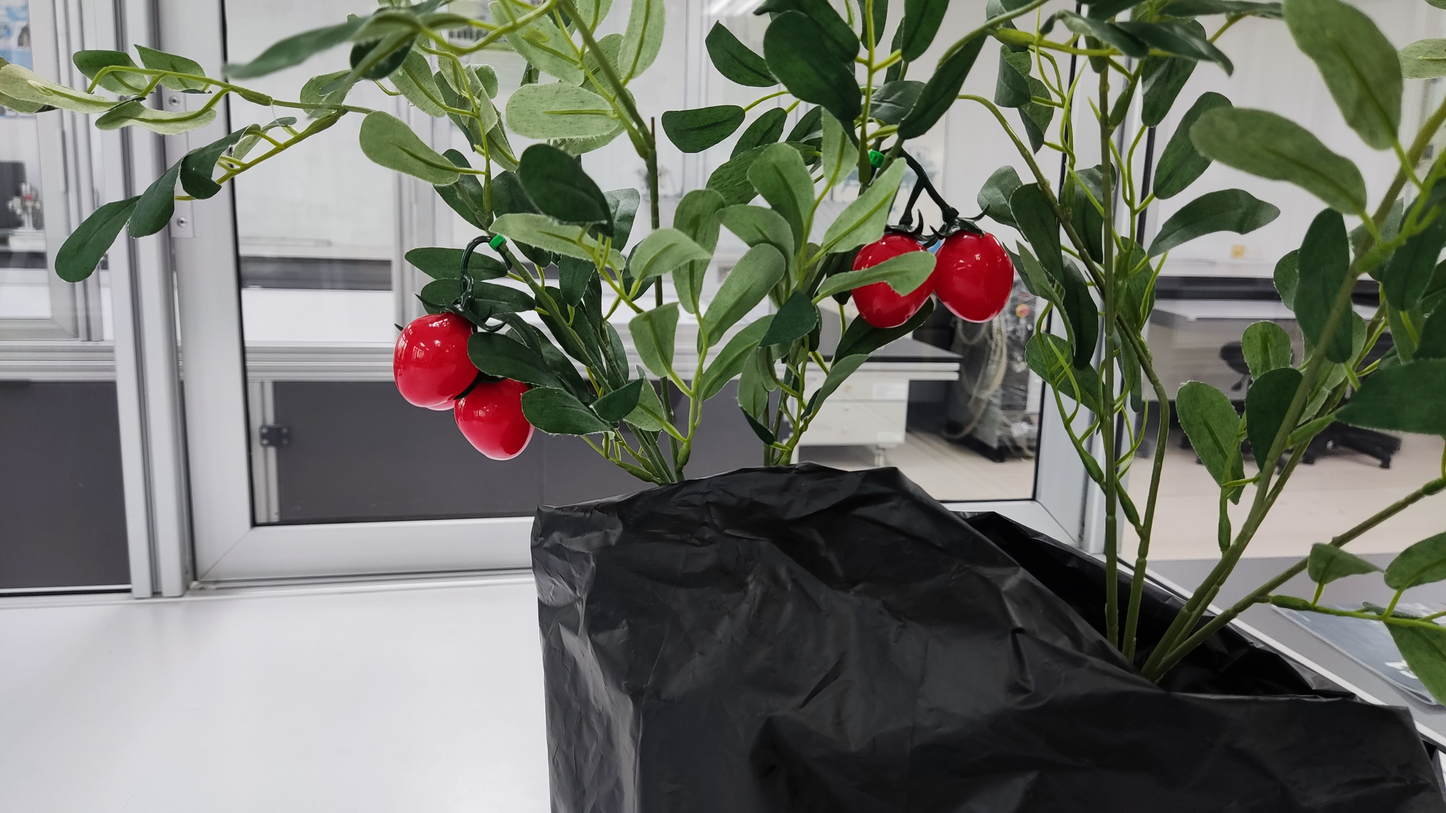peduncle: (460, 236, 484, 269), (907, 157, 924, 176)
strawberry: (392, 311, 476, 409), (933, 229, 1015, 321), (453, 378, 533, 459), (852, 271, 936, 327), (854, 233, 925, 268)
